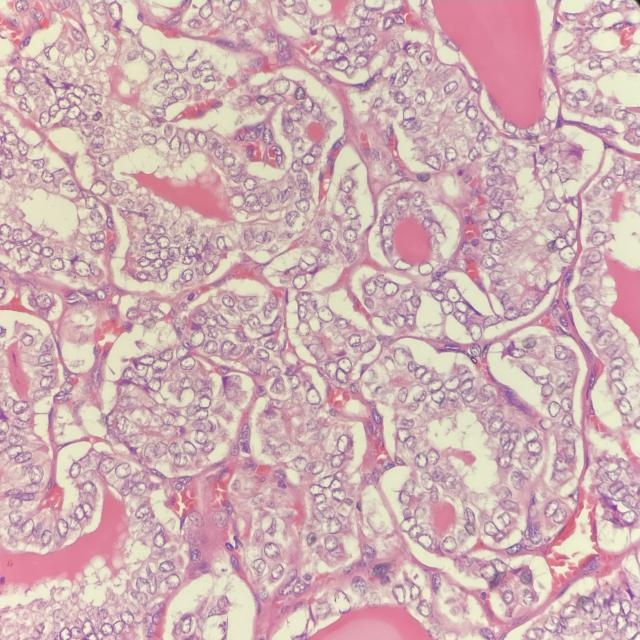TC: (385, 338, 411, 374), (298, 384, 325, 413), (262, 372, 291, 397), (330, 430, 356, 454), (294, 252, 322, 273), (315, 302, 337, 328), (187, 325, 209, 350), (216, 339, 240, 361), (477, 250, 499, 274), (503, 341, 529, 360), (345, 330, 366, 353), (359, 278, 379, 302), (464, 321, 484, 345), (500, 303, 521, 325), (377, 218, 396, 242), (296, 316, 314, 341), (463, 382, 481, 407), (546, 397, 563, 423), (321, 360, 343, 380), (287, 275, 309, 295), (340, 226, 360, 248), (416, 258, 435, 280), (395, 384, 413, 406), (383, 278, 401, 300), (487, 416, 506, 436), (427, 377, 445, 395), (220, 291, 237, 309), (479, 227, 498, 243), (319, 225, 335, 243)
